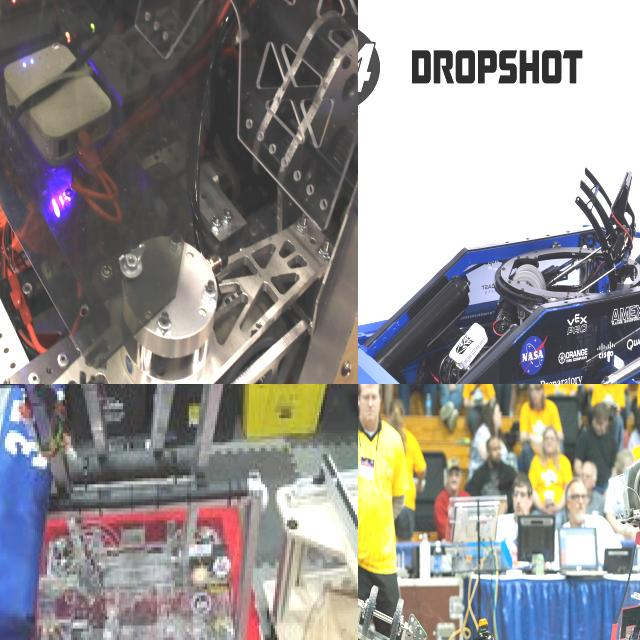FRC-Robots: (0, 0, 358, 384), (2, 384, 332, 640), (358, 119, 640, 384), (550, 384, 640, 640), (358, 559, 574, 640)
